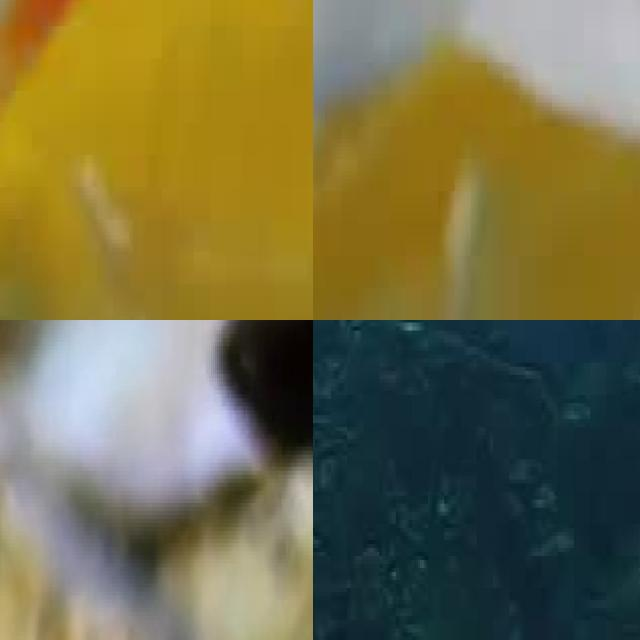fish: (0, 0, 313, 320), (89, 320, 313, 519)
